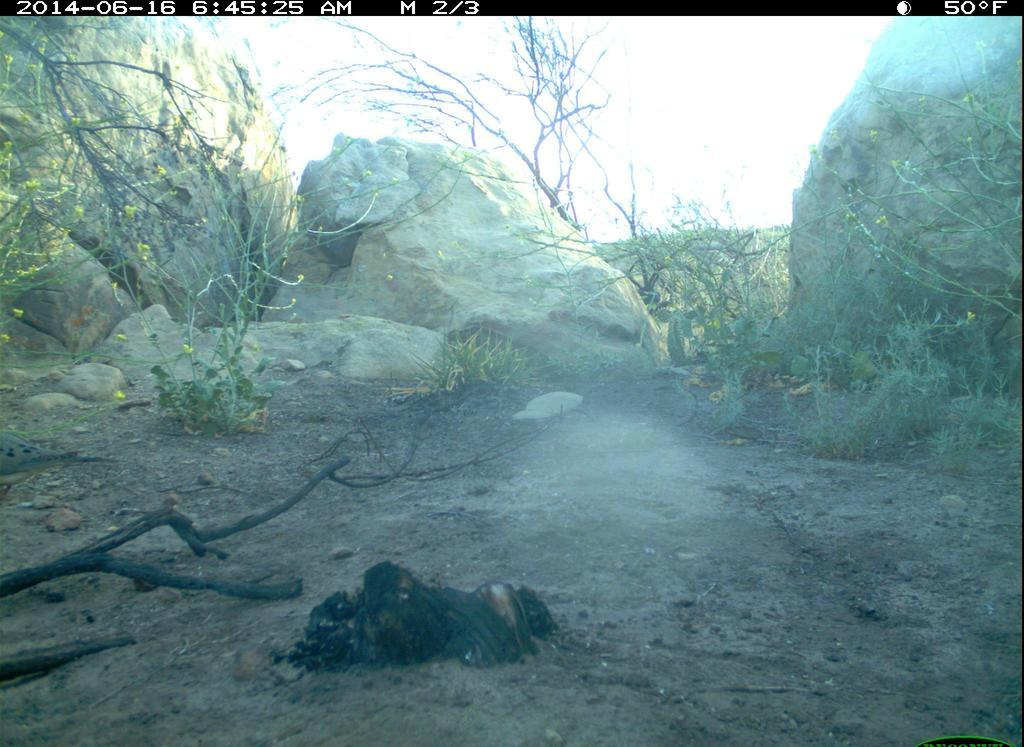bird: (1, 429, 124, 501)
